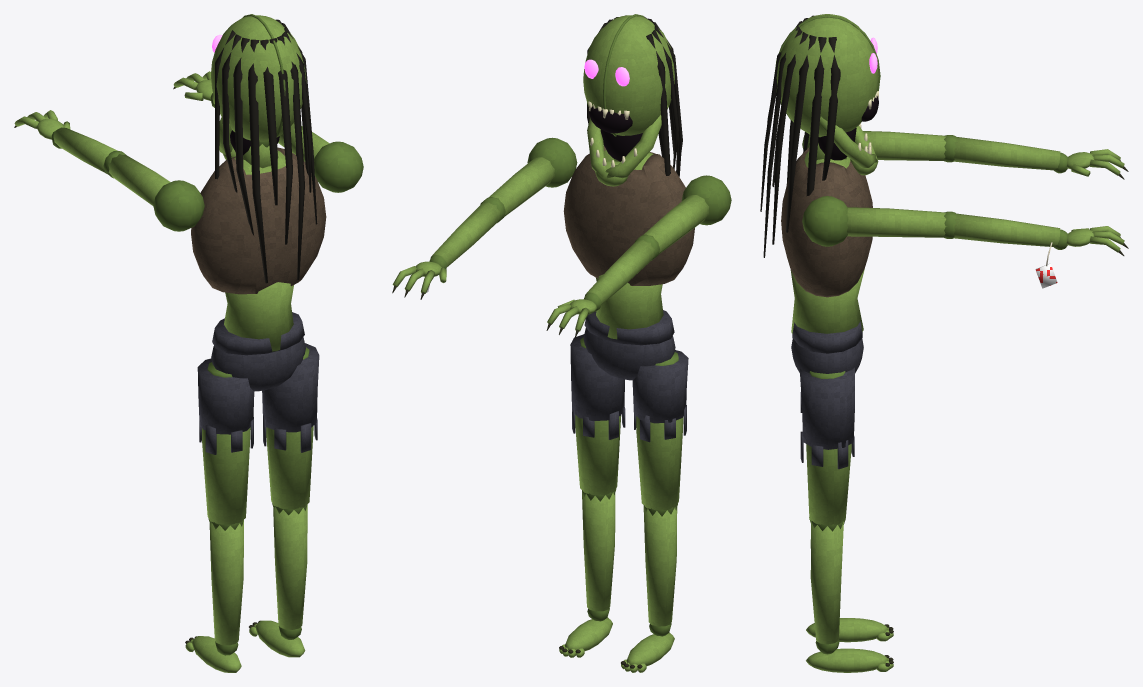
File: z_screamer.glb
3 views of the same model, side by side, from view 1: azimuth 30°, elevation 25°; view 2: azimuth 150°, elevation 25°; view 3: azimuth 270°, elevation 25° (orthographic). The views are drawn at different scales.
Parts seen in each view (by area): view 1: part_body, part_head, part_legL, part_legR, part_kneeR, part_kneeL, part_armL, part_arm; view 2: part_body, part_head, part_legL, part_legR, part_kneeR, part_kneeL, part_arm, part_armL, part_jaw; view 3: part_body, part_head, part_legR, part_arm, part_armL, part_kneeR, part_jaw, part_kneeL.
Boxes of the visible parts, left/top/right/bottom form: part_body: left=153, top=141, right=363, bottom=391; part_head: left=211, top=14, right=317, bottom=283; part_legL: left=197, top=358, right=254, bottom=524; part_legR: left=262, top=343, right=319, bottom=509; part_kneeR: left=249, top=503, right=307, bottom=657; part_kneeL: left=185, top=518, right=243, bottom=672; part_armL: left=14, top=110, right=170, bottom=205; part_arm: left=173, top=71, right=329, bottom=161; part_body: left=527, top=137, right=731, bottom=380; part_head: left=583, top=14, right=682, bottom=176; part_legL: left=632, top=350, right=688, bottom=510; part_legR: left=570, top=334, right=625, bottom=495; part_kneeR: left=559, top=488, right=616, bottom=657; part_kneeL: left=621, top=503, right=677, bottom=672; part_arm: left=392, top=157, right=554, bottom=299; part_armL: left=546, top=195, right=709, bottom=337; part_jaw: left=587, top=105, right=668, bottom=186; part_body: left=781, top=135, right=872, bottom=373; part_head: left=760, top=14, right=880, bottom=257; part_legR: left=800, top=367, right=854, bottom=525; part_arm: left=847, top=207, right=1128, bottom=288; part_armL: left=863, top=131, right=1128, bottom=179; part_kneeR: left=806, top=517, right=893, bottom=672; part_jaw: left=818, top=116, right=878, bottom=175; part_kneeL: left=806, top=539, right=893, bottom=642.
Size of the model in its own units: 0.64 by 1.95 by 1.01.
12 materials, 6 textured.
